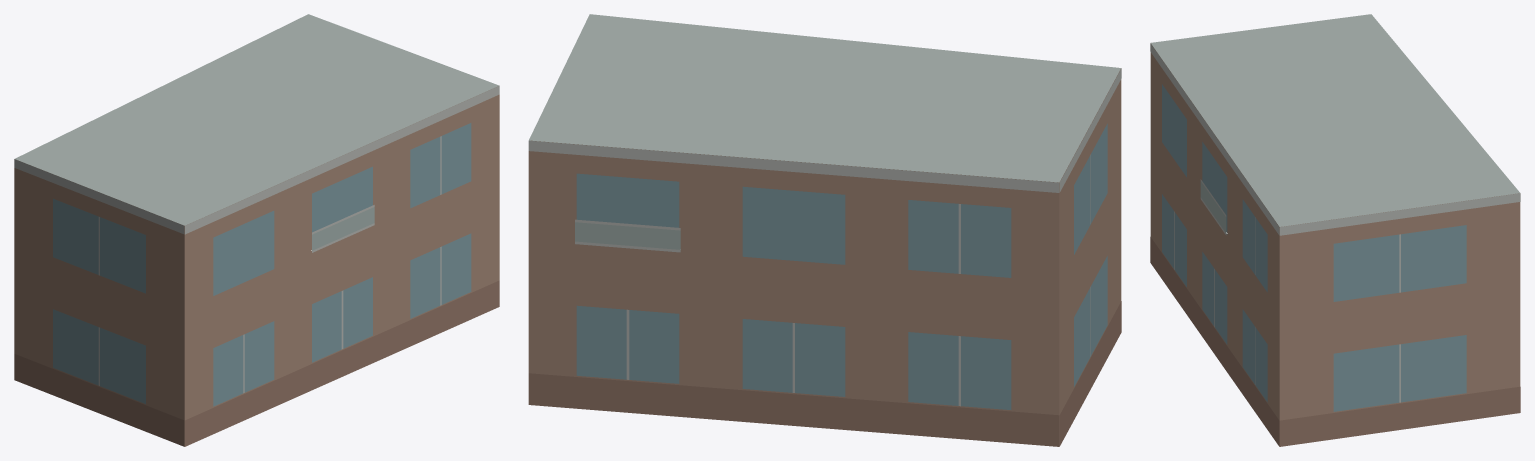
The model's file is survey-upis-32919066.glb.
3 renders of one model, left to right at view 1: azimuth 30°, elevation 25°; view 2: azimuth 150°, elevation 25°; view 3: azimuth 270°, elevation 25°, orthographic. The views are drawn at different scales.
Parts seen in each view (by area): view 1: survey-upis-32919066.tmp; view 2: survey-upis-32919066.tmp; view 3: survey-upis-32919066.tmp.
Boxes of the visible parts, x1,y1,x2,y2 form: survey-upis-32919066.tmp: [14, 14, 499, 446]; survey-upis-32919066.tmp: [528, 14, 1121, 446]; survey-upis-32919066.tmp: [1150, 14, 1520, 446].
Size of the model in its own units: 12.69 by 6.1 by 9.32.
